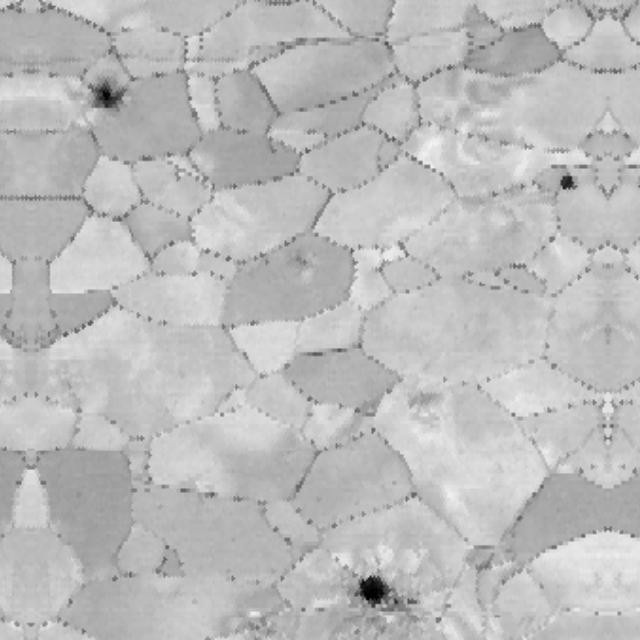good_void: (352, 564, 420, 630), (76, 67, 135, 117), (397, 385, 453, 434), (289, 245, 320, 275), (555, 172, 577, 198), (589, 462, 598, 473), (620, 462, 629, 473)
